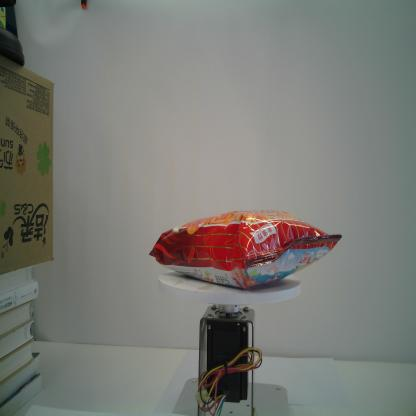Puffed Food: (148, 210, 343, 292)
